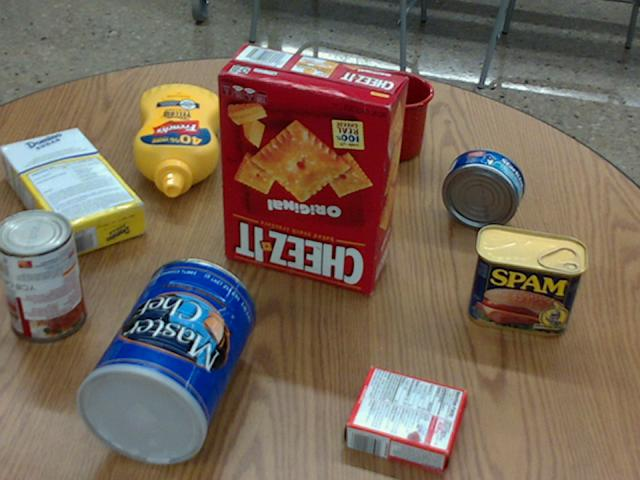cracker_box: (217, 45, 407, 292)
gelatin_box: (344, 365, 466, 472)
large_marker: (266, 99, 314, 154)
master_chef_can: (77, 257, 256, 464)
mug: (349, 70, 432, 161)
mustard_bottle: (132, 84, 219, 196)
potted_meat_can: (467, 225, 587, 335)
sugar_box: (0, 123, 145, 259)
tomato_soup_can: (0, 207, 85, 341)
tuna_fish_can: (441, 149, 523, 228)
